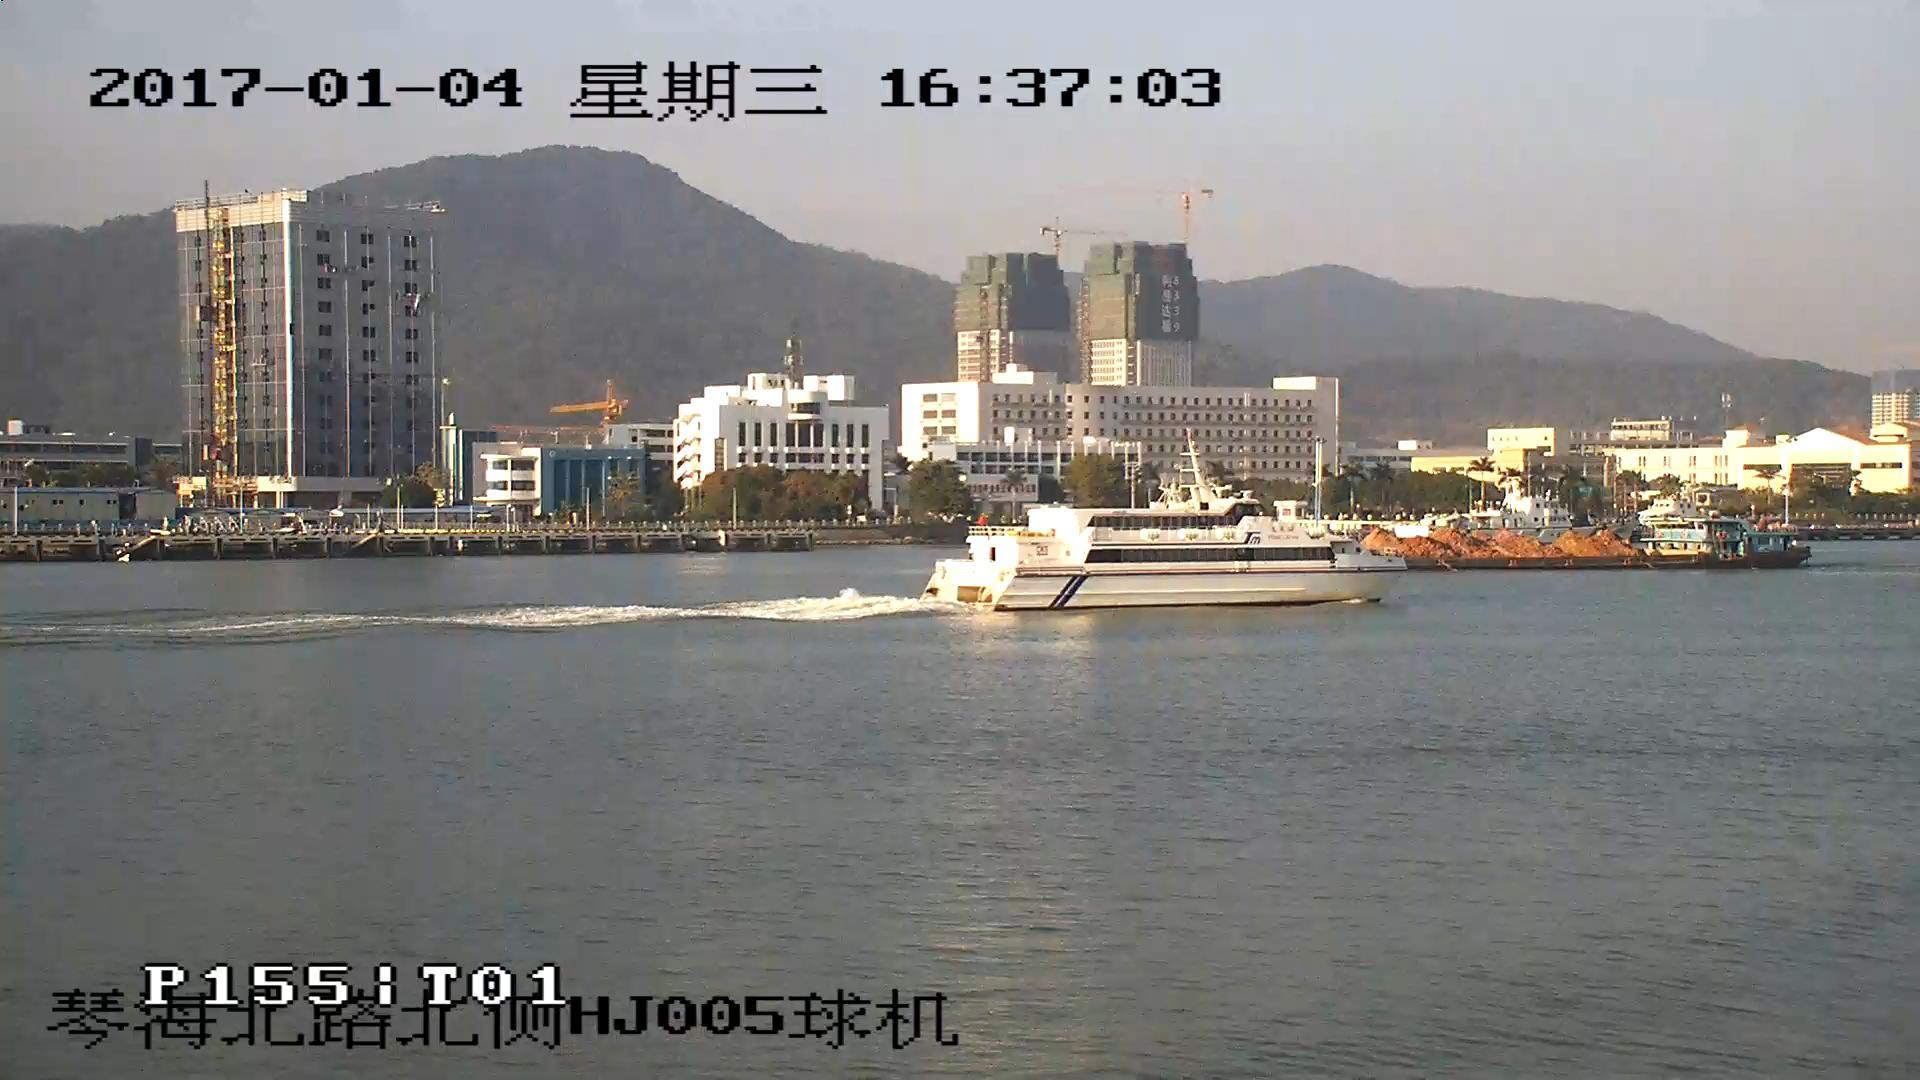Ship: (924, 448, 1404, 609), (1375, 524, 1809, 574)
